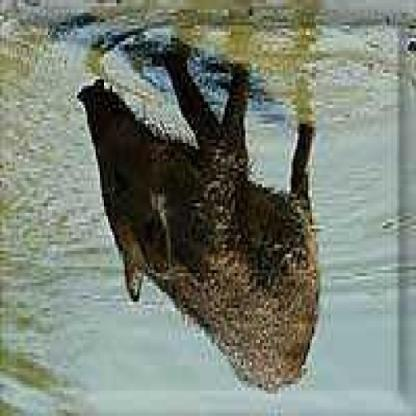boar: (78, 63, 398, 410)
